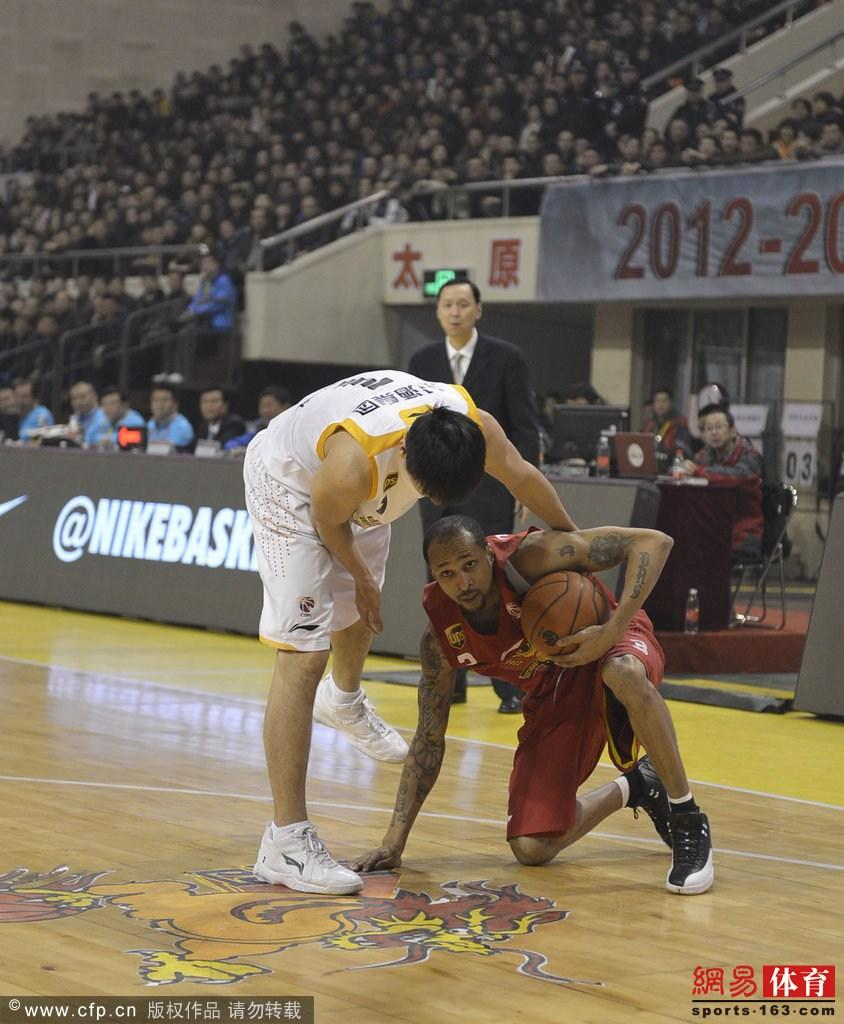bending: (241, 366, 582, 898), (655, 409, 787, 639)
down: (351, 513, 751, 902)
up: (397, 257, 557, 527)
